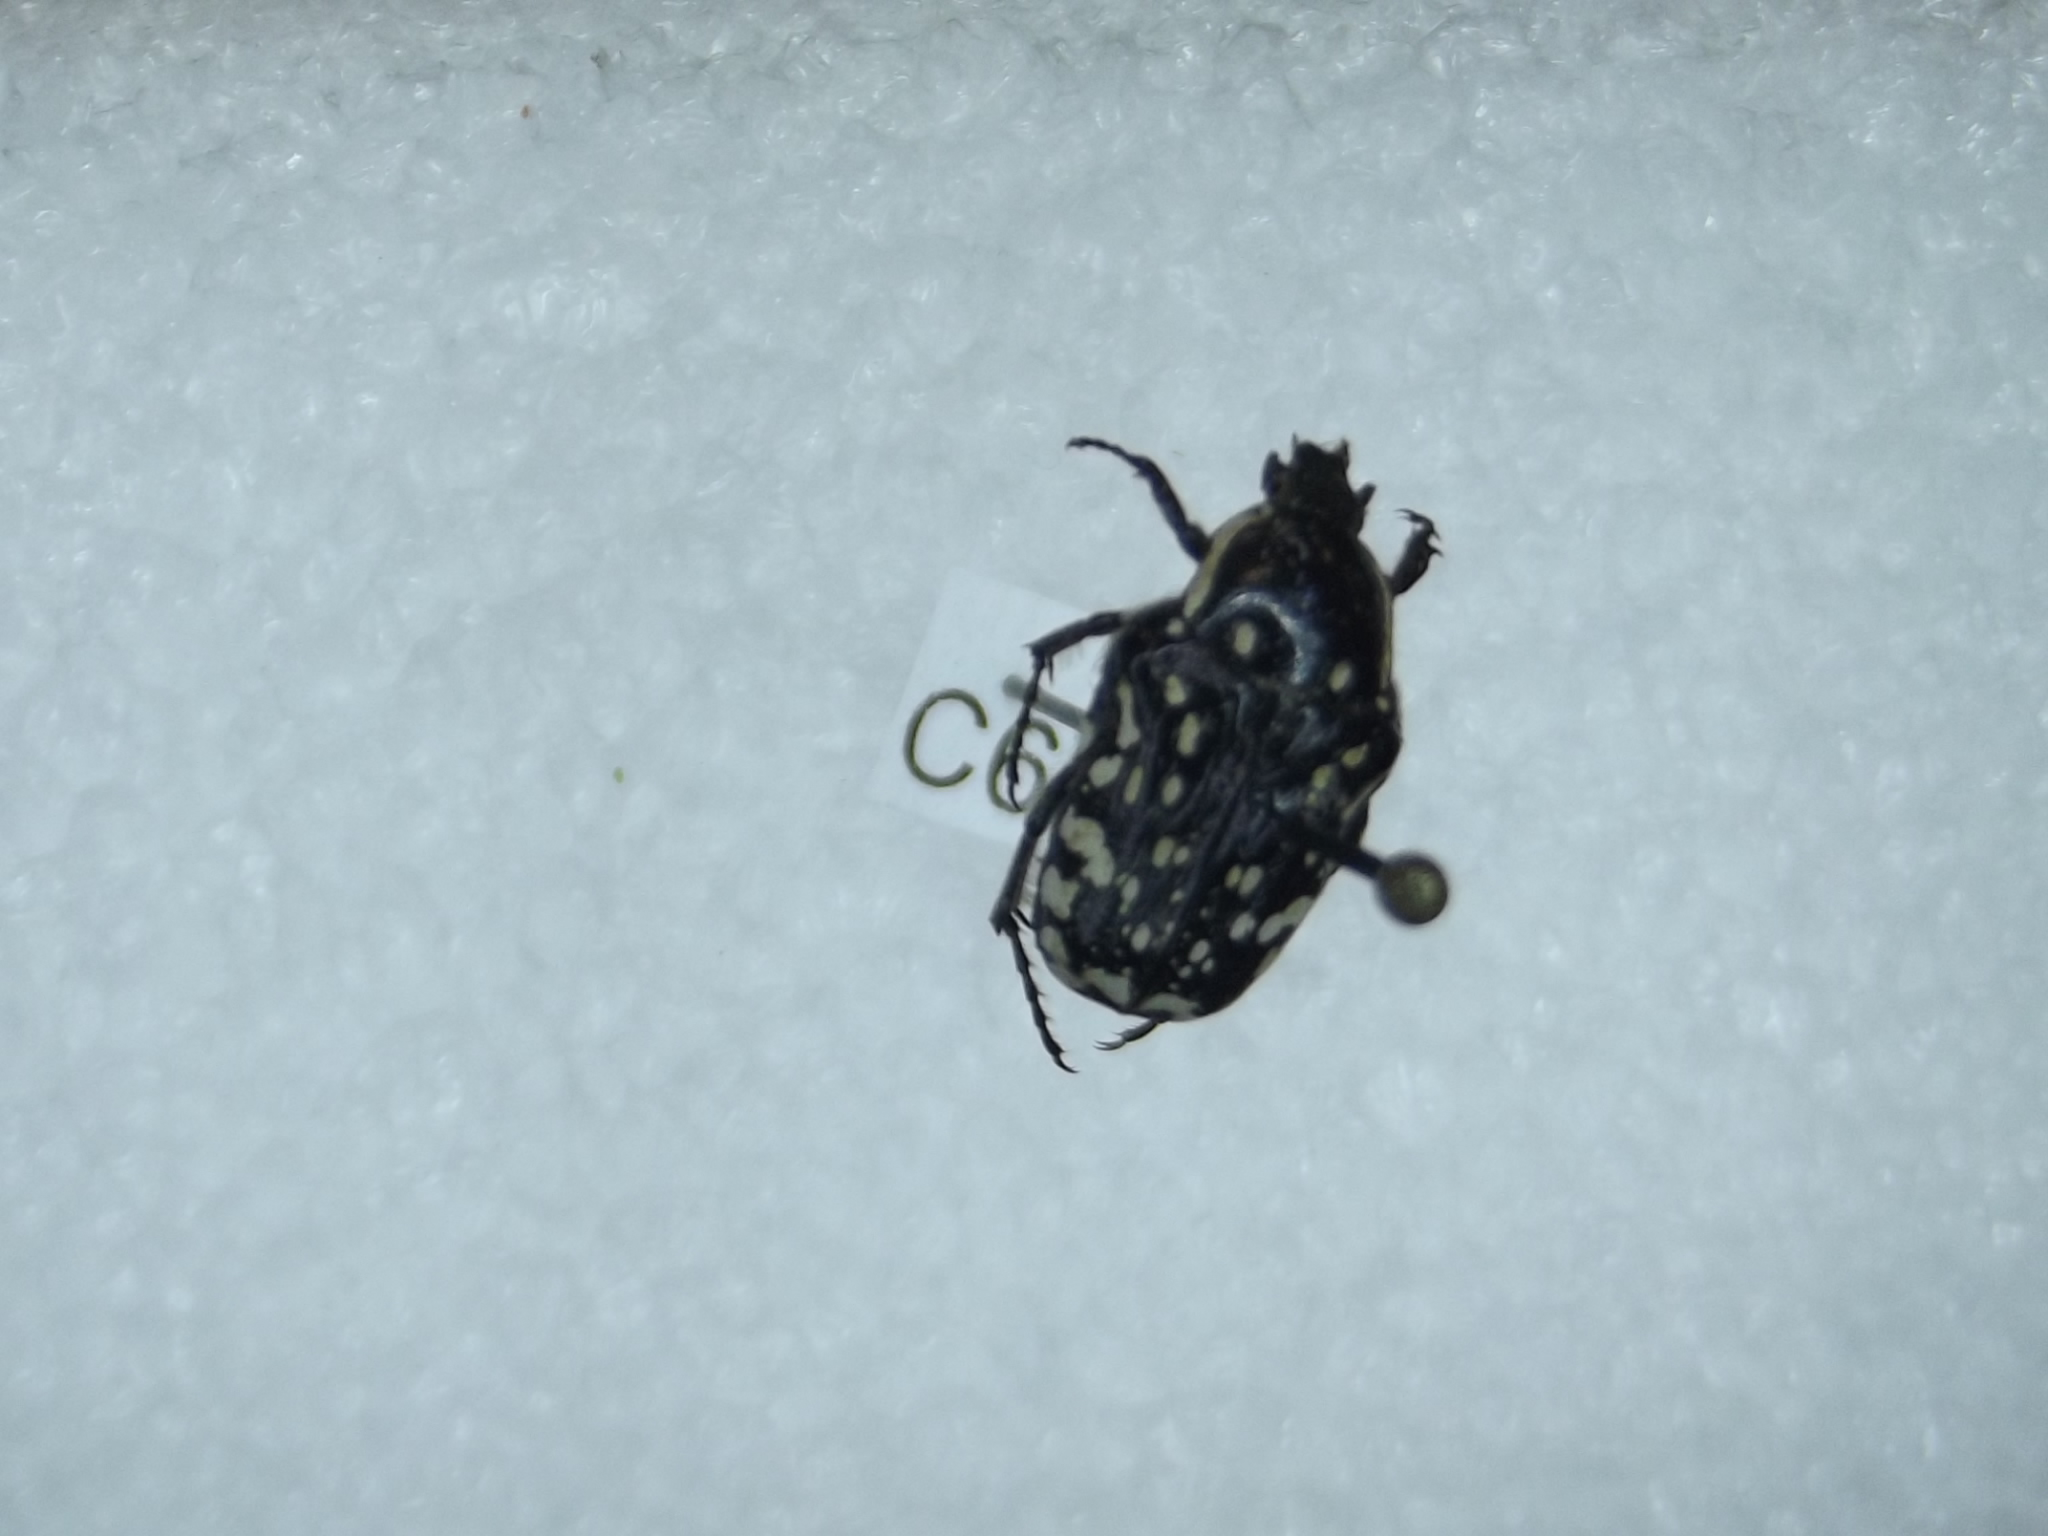Oxythyrea_funesta: (977, 403, 1458, 1084)
